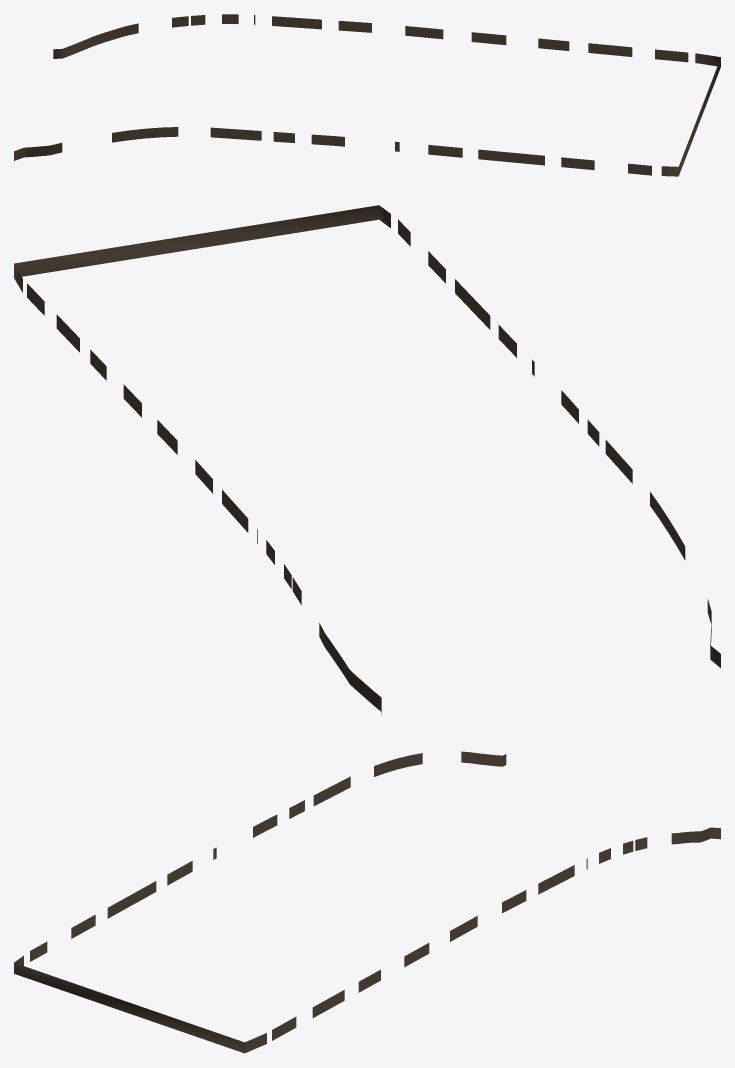
The picture shows the model from 3 angles, top to bottom: view 1: azimuth 30°, elevation 25°; view 2: azimuth 150°, elevation 25°; view 3: azimuth 270°, elevation 25°; orthographic projection. The views are drawn at different scales.
Visible parts, largest first — view 1: prototype; view 2: prototype; view 3: prototype.
Part boxes in pixels (x1=…): prototype: x1=14, y1=14, x2=720, y2=176; prototype: x1=14, y1=205, x2=720, y2=715; prototype: x1=14, y1=751, x2=720, y2=1053.
Size of the model in its own units: 20.25 by 1.72 by 18.48.
